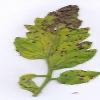Tomato Septoria leaf spot: (8, 3, 97, 69), (54, 66, 98, 87)
